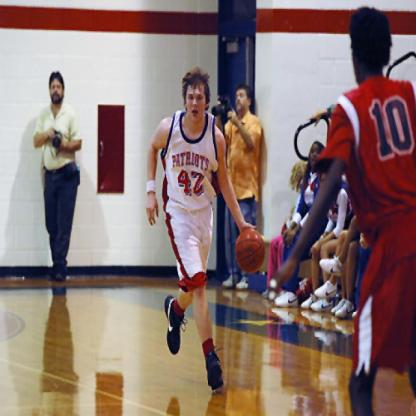basketball: (235, 228, 264, 276)
